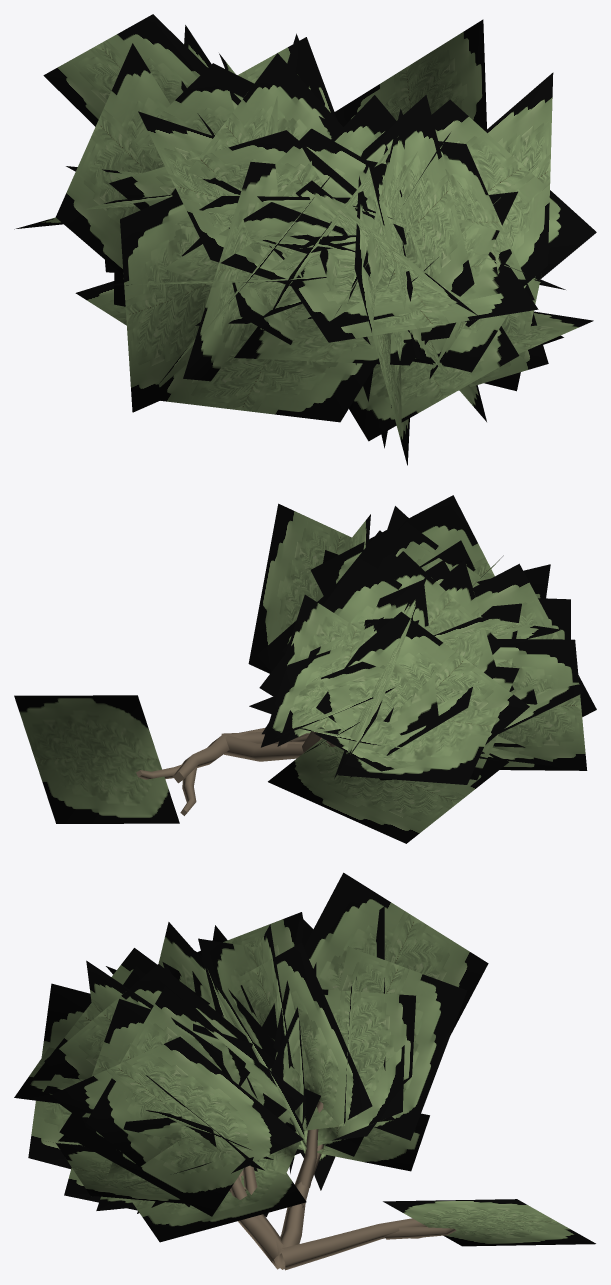
File: arctic_shrub_1.glb
The picture shows the model from 3 angles, top to bottom: view 1: azimuth 30°, elevation 25°; view 2: azimuth 150°, elevation 25°; view 3: azimuth 270°, elevation 25°; orthographic projection. The views are drawn at different scales.
Parts seen in each view (by area): view 1: arctic_shrub_1; view 2: arctic_shrub_1; view 3: arctic_shrub_1.
Part boxes in pixels (bbox=[...]): arctic_shrub_1: bbox=[14, 14, 596, 465]; arctic_shrub_1: bbox=[14, 495, 596, 843]; arctic_shrub_1: bbox=[14, 872, 595, 1270].
Bounding box in the file's own units: 1.51 × 0.8774 × 1.67.
Materials: 2 (1 with a texture image).
